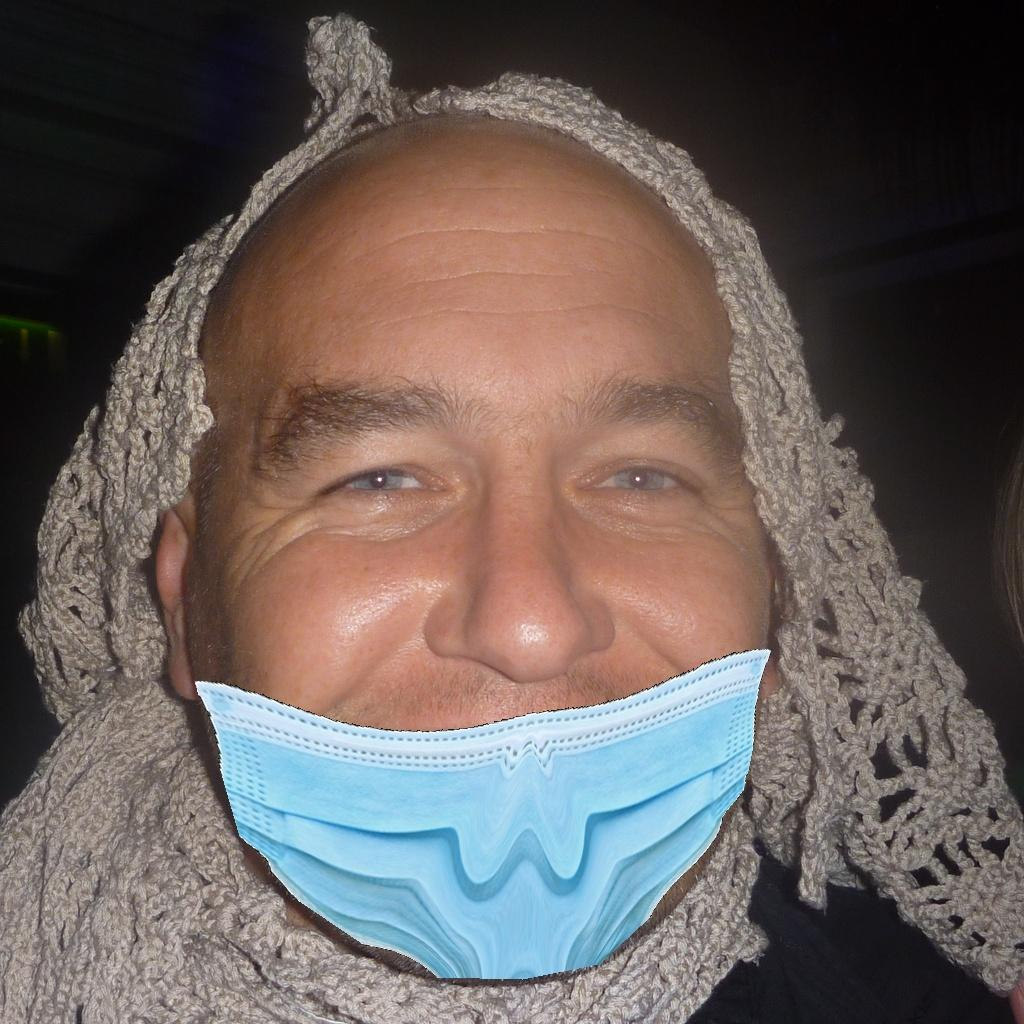Máscara Incorreta: (180, 236, 804, 961)
